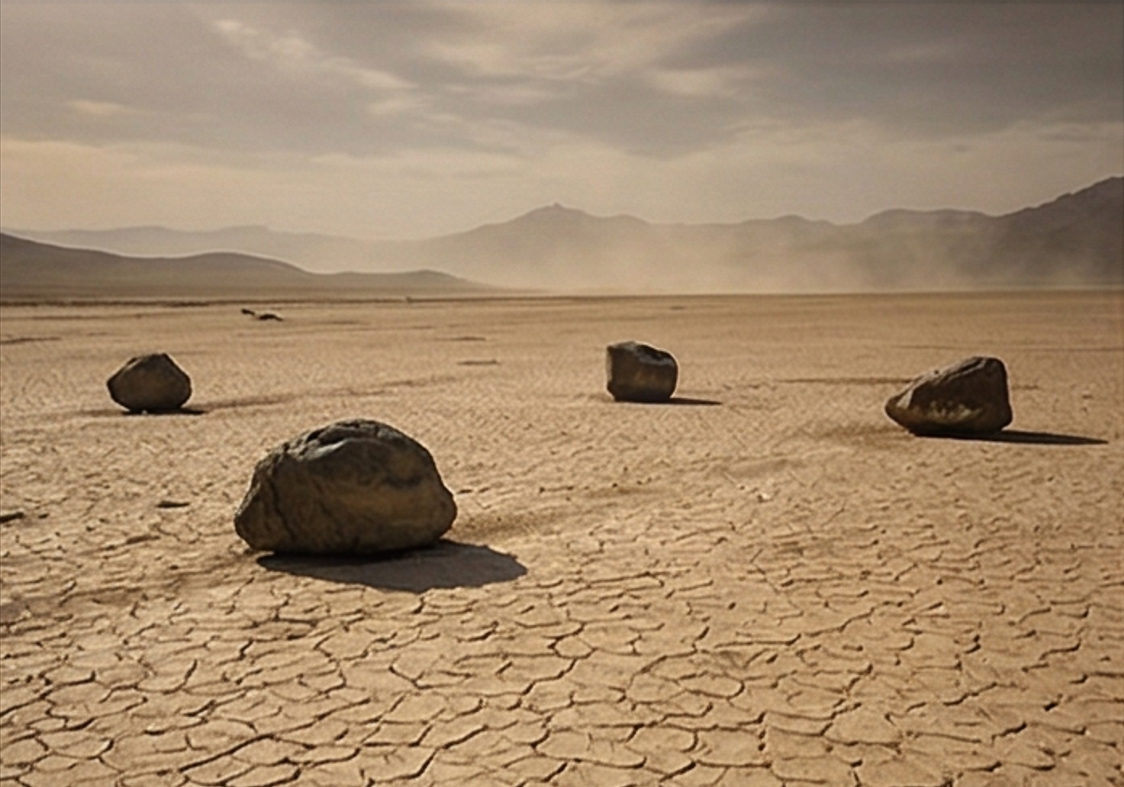rocks: (236, 419, 455, 555), (886, 357, 1012, 434), (108, 354, 191, 411), (607, 341, 677, 403)
